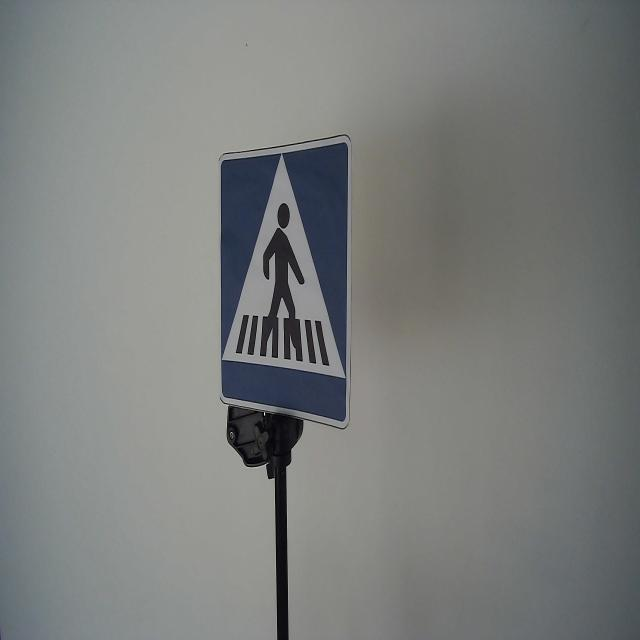crosswalk_sign: (215, 130, 356, 433)
